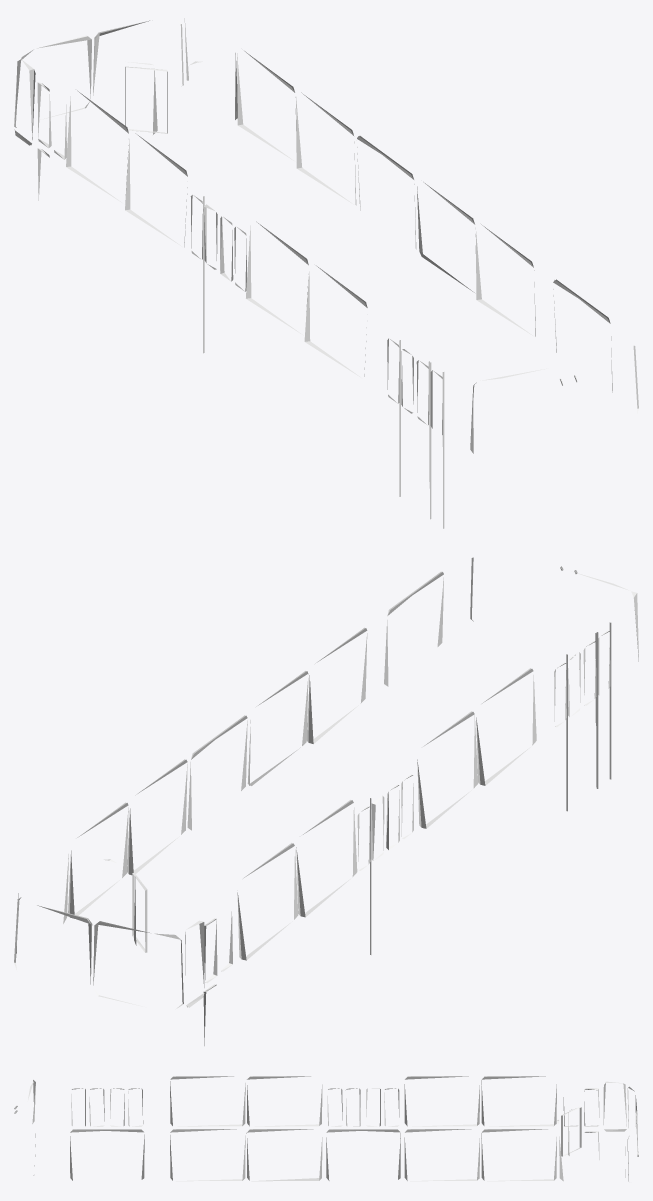
3 views of the same model, one above another, from view 1: azimuth 30°, elevation 25°; view 2: azimuth 150°, elevation 25°; view 3: azimuth 270°, elevation 25° (orthographic). The views are drawn at different scales.
Bounding box in the file's own units: 2.43 × 2.21 × 11.31.
1 material, 1 textured.
